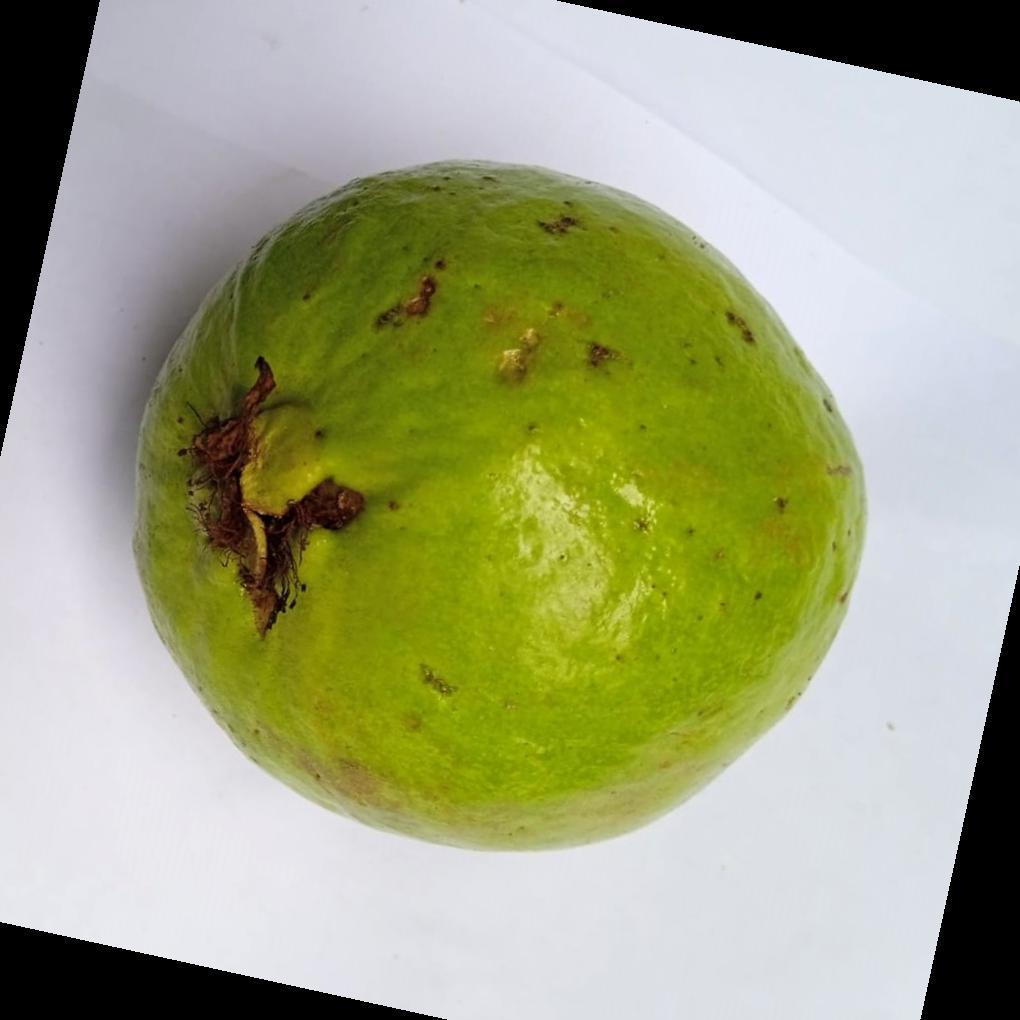FreshGuava: (130, 161, 869, 857)
